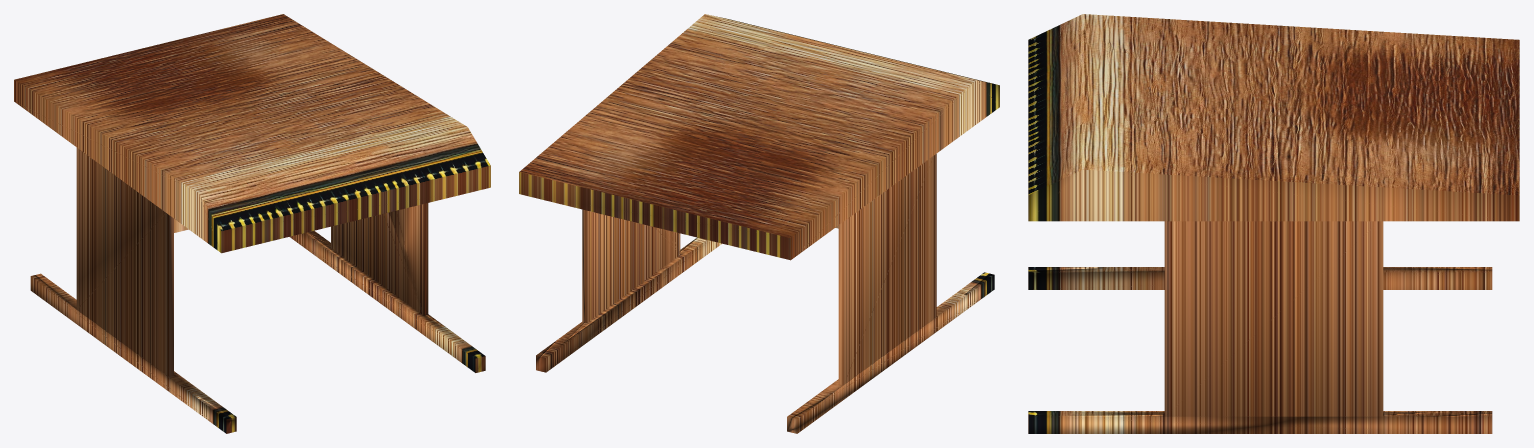
File: piano pianoforte forte-piano_11_21__09_13_10_textured.obj
3 renders of one model, left to right at view 1: azimuth 30°, elevation 25°; view 2: azimuth 150°, elevation 25°; view 3: azimuth 270°, elevation 25°, orthographic. The views are drawn at different scales.
Size of the model in its own units: 1.5 by 1.2 by 2.
1 material, 1 textured.
